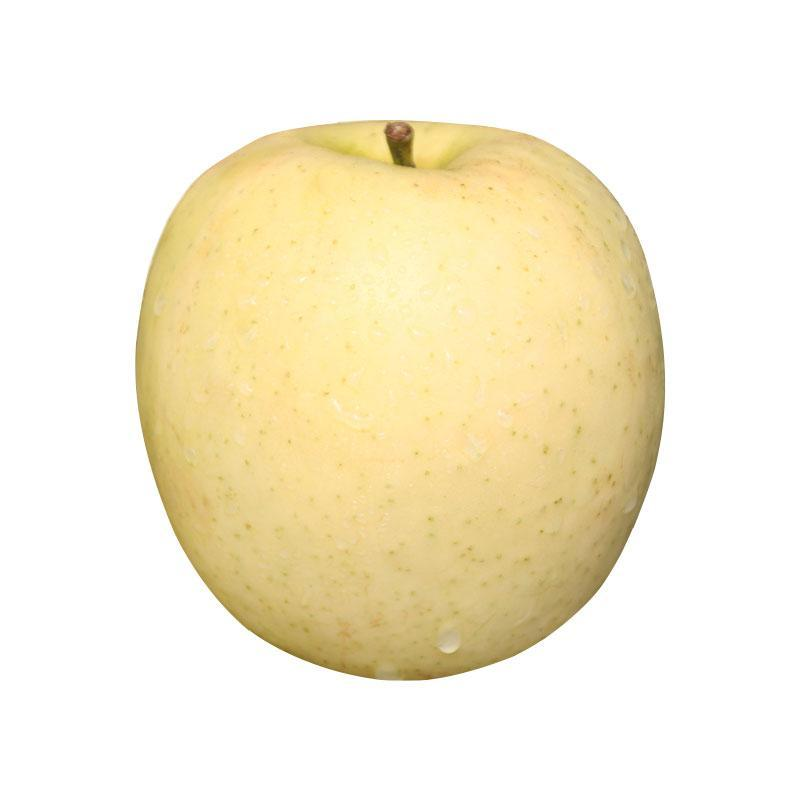apple: (128, 108, 666, 679)
